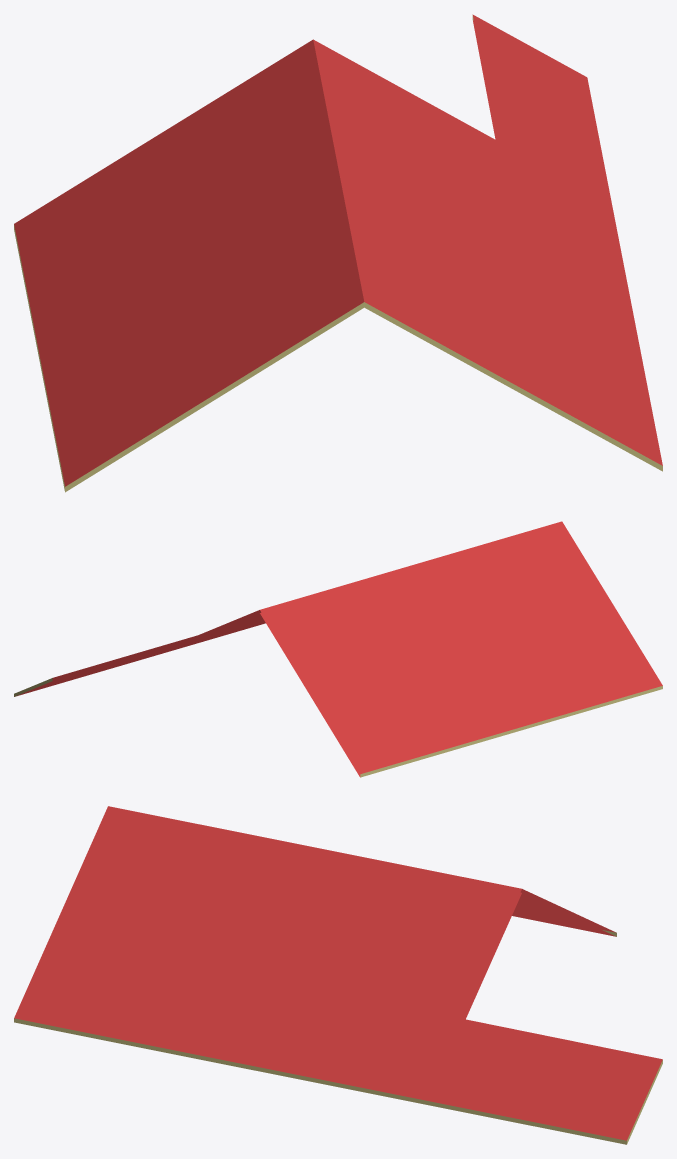
3 views of the same model, one above another, from view 1: azimuth 30°, elevation 25°; view 2: azimuth 150°, elevation 25°; view 3: azimuth 270°, elevation 25° (orthographic). The views are drawn at different scales.
Size of the model in its own units: 15.07 by 14.22 by 3.2.
